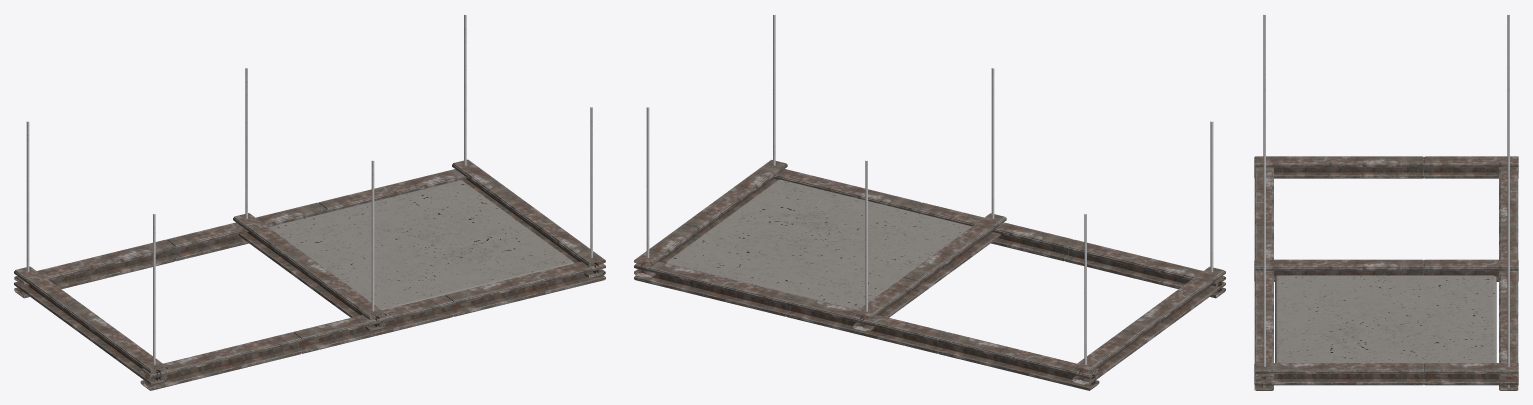
The model's file is SM_Ceiling_Scaffold_Half_Gap.glb.
The picture shows the model from 3 angles, left to right: view 1: azimuth 30°, elevation 25°; view 2: azimuth 150°, elevation 25°; view 3: azimuth 270°, elevation 25°; orthographic projection. The views are drawn at different scales.
Visible parts, largest first — view 1: SM_Ceiling_Scaffold_Half_Gap; view 2: SM_Ceiling_Scaffold_Half_Gap; view 3: SM_Ceiling_Scaffold_Half_Gap.
Part boxes in pixels (<box>): SM_Ceiling_Scaffold_Half_Gap: <box>14,15,605,390</box>; SM_Ceiling_Scaffold_Half_Gap: <box>634,15,1225,390</box>; SM_Ceiling_Scaffold_Half_Gap: <box>1254,15,1518,390</box>.
Size of the model in its own units: 2.6 by 0.9392 by 1.35.
3 materials, 3 textured.
